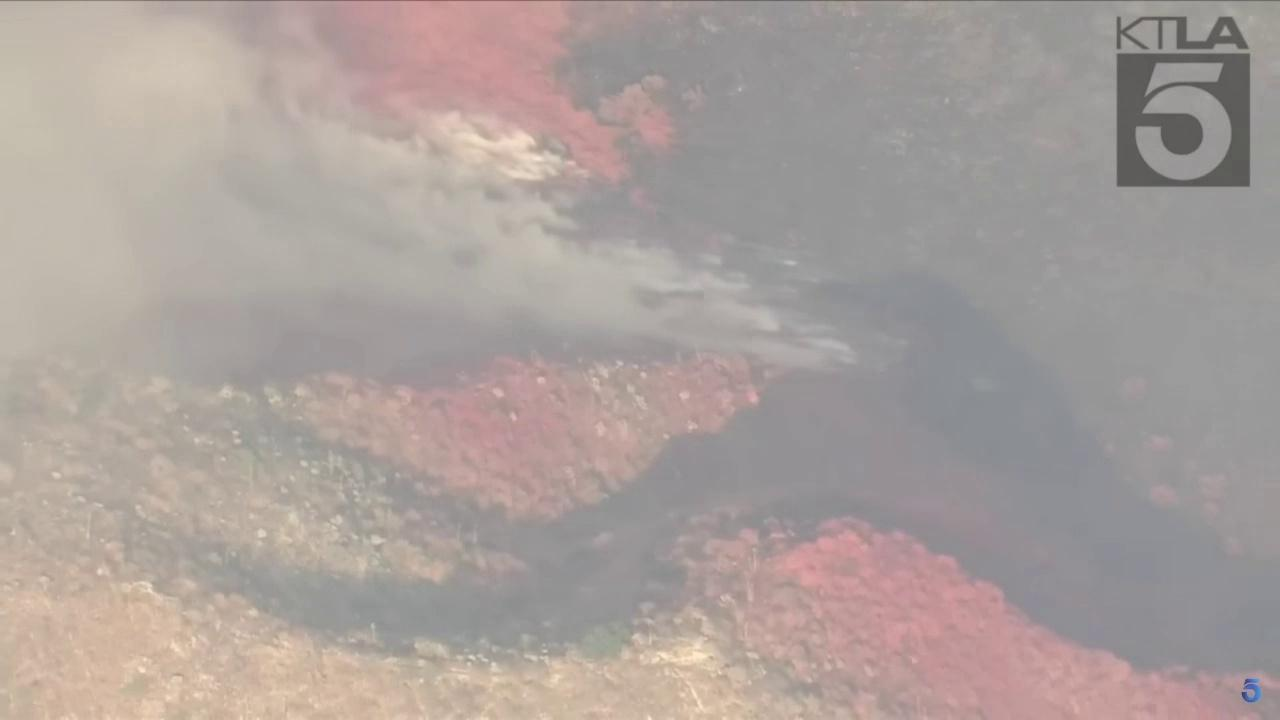smoke: (0, 0, 862, 371)
